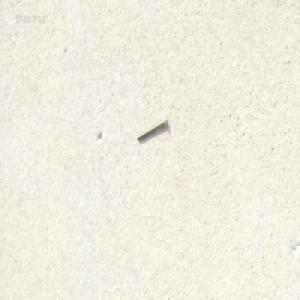Bolt: (136, 115, 167, 141)
